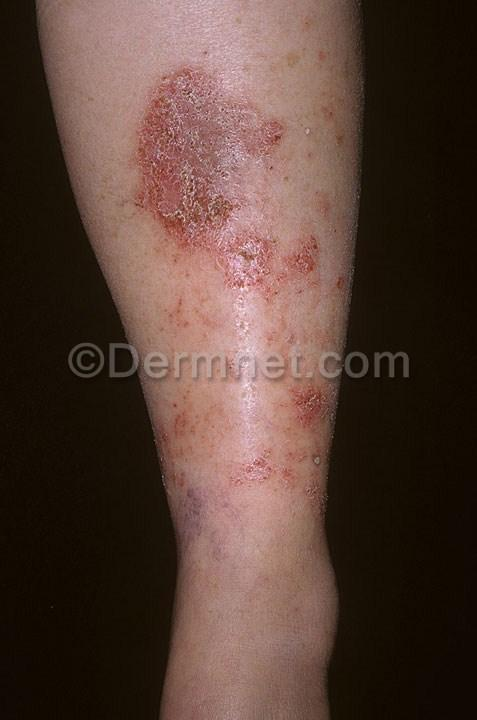Eczema: (95, 69, 286, 236), (209, 222, 290, 317), (128, 329, 220, 398), (230, 317, 312, 376), (173, 481, 240, 551), (230, 437, 303, 501), (150, 399, 209, 474), (286, 230, 338, 298), (296, 440, 329, 543), (152, 279, 215, 332), (284, 367, 333, 434), (205, 377, 257, 440), (310, 89, 352, 166), (282, 13, 334, 61), (311, 300, 348, 361), (213, 12, 269, 51), (178, 23, 225, 69), (304, 186, 352, 231), (272, 582, 307, 638), (330, 42, 358, 81), (341, 236, 354, 298), (315, 268, 319, 270)
